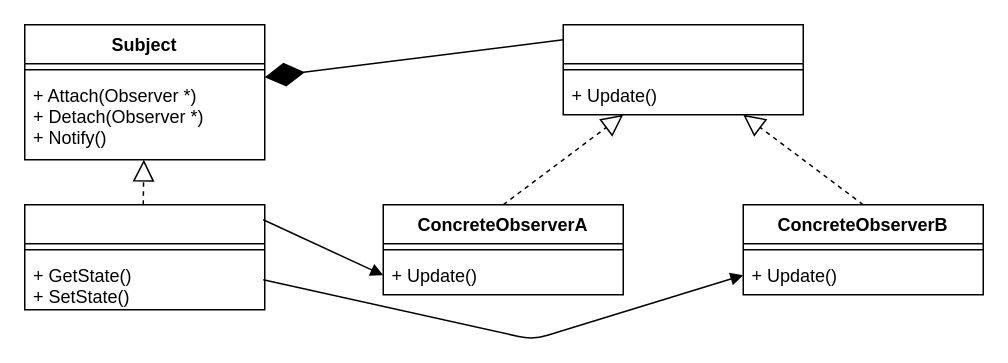
Image size: 1008x363. Some labels were removed from this diagram. Each missing label, with the box of its shape:
ConcreteSubject: (23, 203, 265, 310)
Observer: (562, 23, 803, 115)
